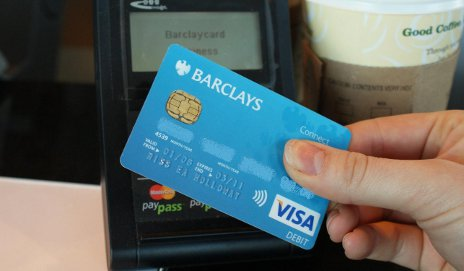tarjeta: (119, 41, 353, 252)
